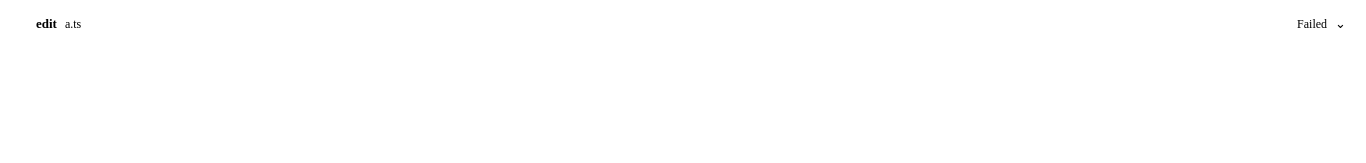
Test: ToolCallCard › renders an edit as a compact diff instead of raw arguments
Click the button at (46, 24), box x1=8 y1=8 x2=1358 y2=40
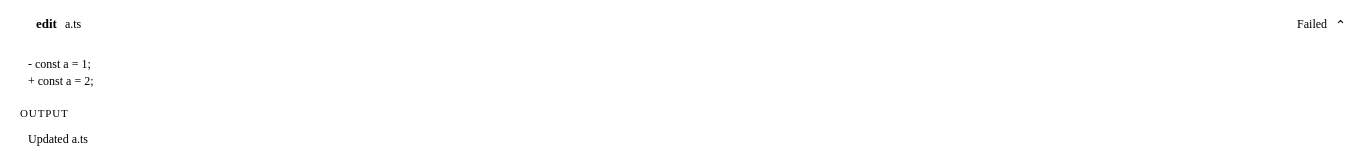
expect the text with class "gc-tool__diff-line--del" shows "const a = 1;": met, box x1=35 y1=57 x2=91 y2=71
expect the text with class "gc-tool__diff-line--add" shows "const a = 2;": met, box x1=38 y1=74 x2=94 y2=88
